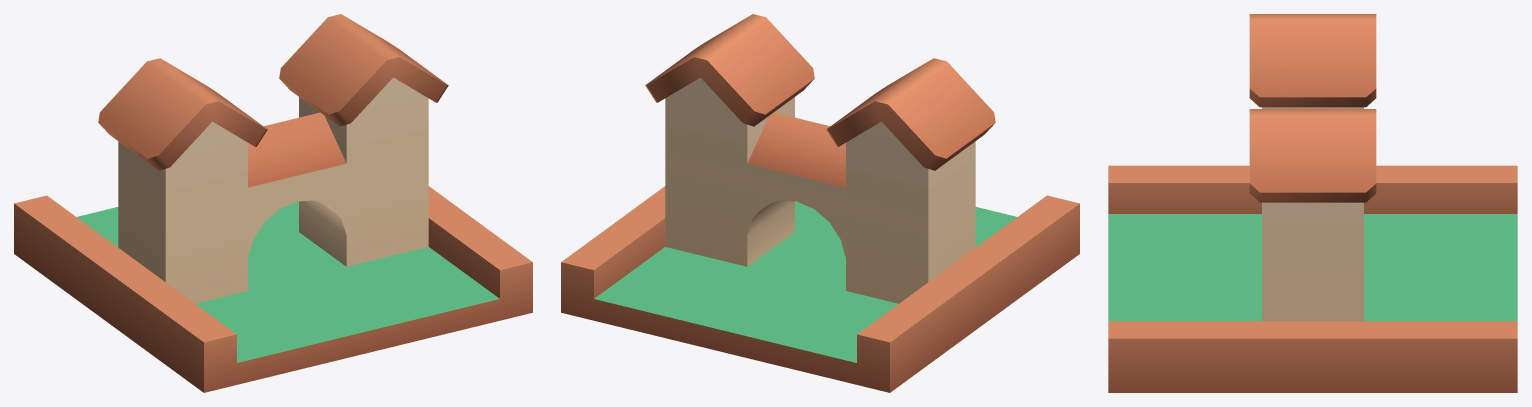
The model's file is slott.glb.
3 renders of one model, left to right at view 1: azimuth 30°, elevation 25°; view 2: azimuth 150°, elevation 25°; view 3: azimuth 270°, elevation 25°, orthographic. The views are drawn at different scales.
Visible parts, largest first — view 1: castle; view 2: castle; view 3: castle.
Boxes of the visible parts, left/top/right/bottom form: castle: left=14, top=14, right=532, bottom=392; castle: left=561, top=14, right=1079, bottom=392; castle: left=1108, top=14, right=1517, bottom=392.
Size of the model in its own units: 0.9999 by 0.651 by 0.9999.
Materials: 1 (1 with a texture image).
